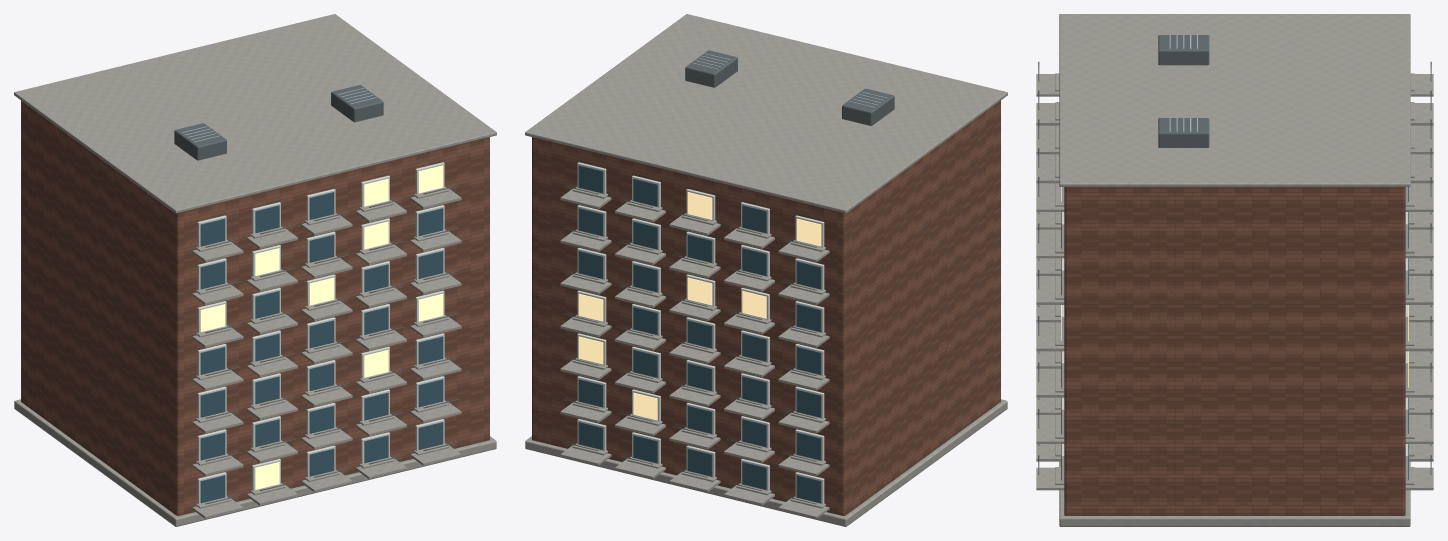
Rendered from mc_apartment.glb.
3 renders of one model, left to right at view 1: azimuth 30°, elevation 25°; view 2: azimuth 150°, elevation 25°; view 3: azimuth 270°, elevation 25°, orthographic. The views are drawn at different scales.
Parts seen in each view (by area): view 1: mc_apartment__Geometry; view 2: mc_apartment__Geometry; view 3: mc_apartment__Geometry.
Part boxes in pixels (<box>): mc_apartment__Geometry: <box>14,14,496,526</box>; mc_apartment__Geometry: <box>525,14,1007,526</box>; mc_apartment__Geometry: <box>1036,14,1433,526</box>.
Bounding box in the file's own units: 23.6 × 23.24 × 23.3.
7 materials, 2 textured.
